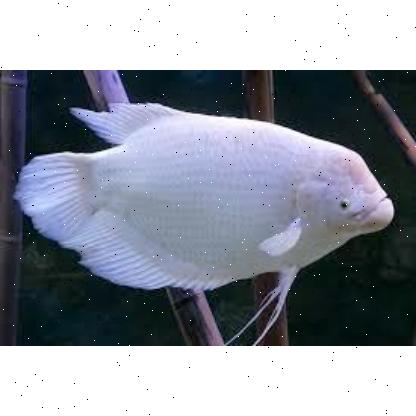gurame: (35, 104, 392, 288)
